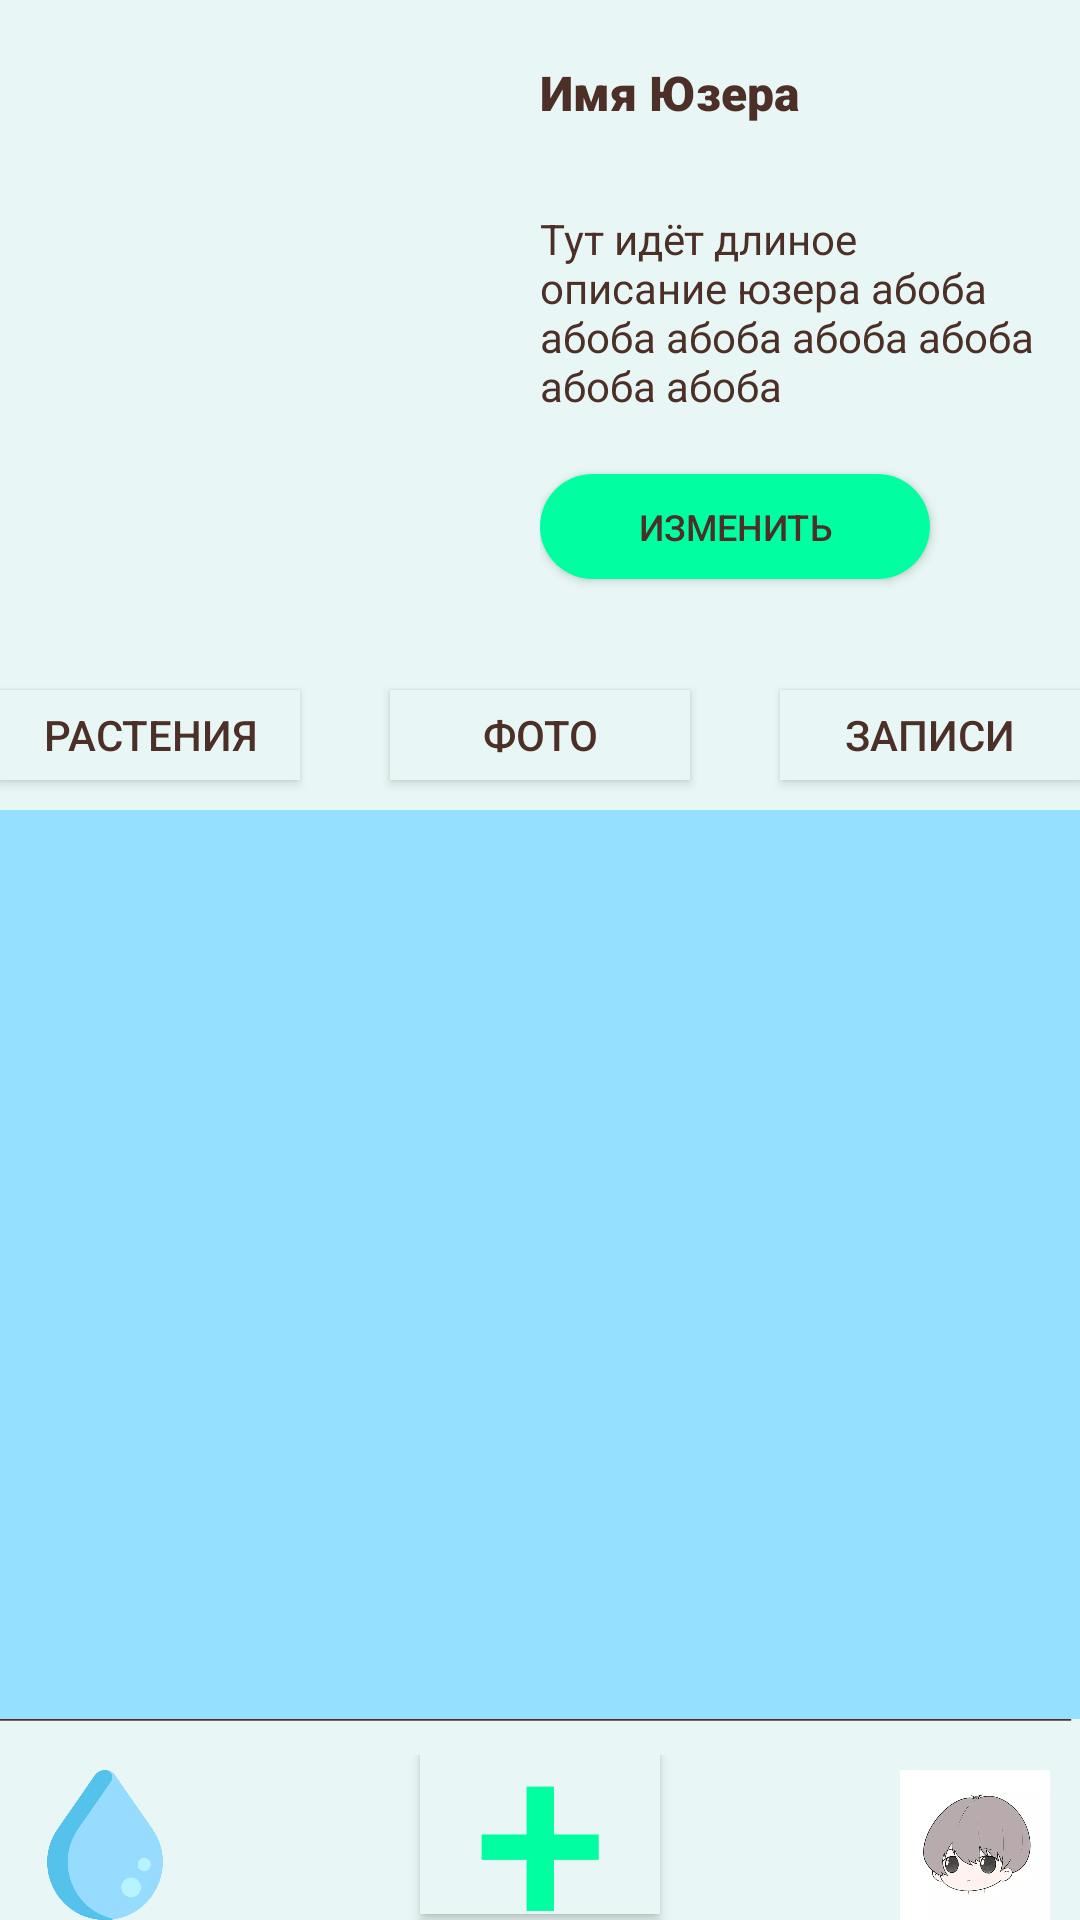

Where icons sit on this 1080px×1920px app screen, as (x1, y1, x2, y2):
drop: (47, 1770, 163, 1920)
